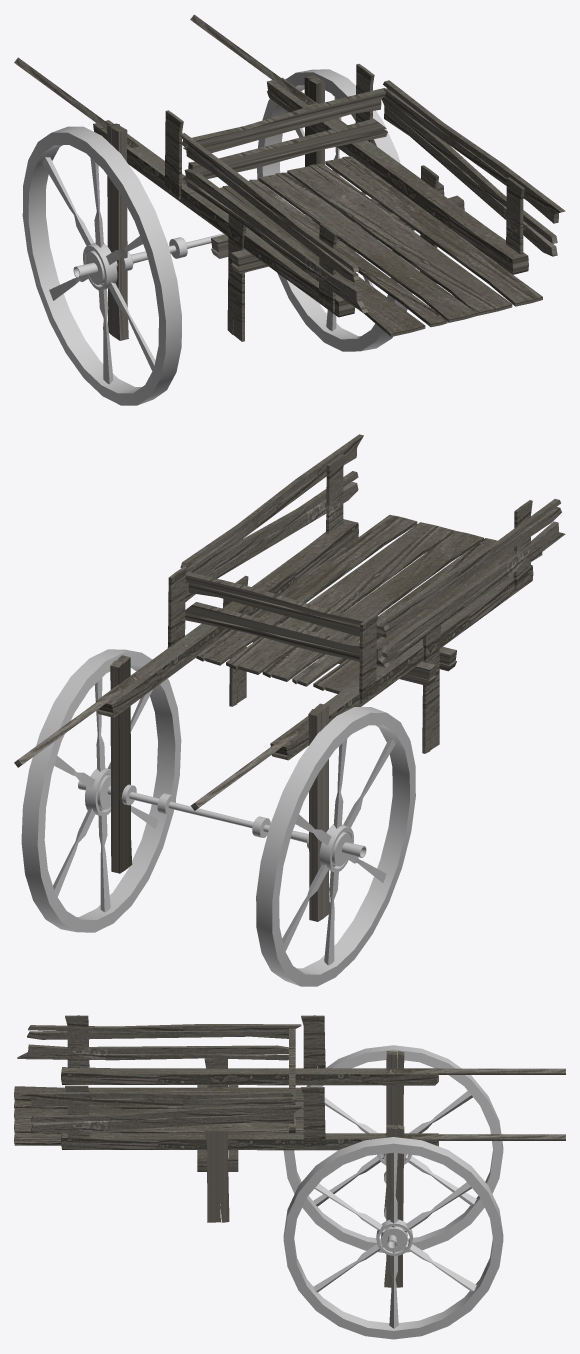
Rendered from carroça.fbx.
The picture shows the model from 3 angles, top to bottom: view 1: azimuth 30°, elevation 25°; view 2: azimuth 150°, elevation 25°; view 3: azimuth 270°, elevation 25°; orthographic projection. The views are drawn at different scales.
Parts seen in each view (by area): view 1: CARRINHO_5_Base_Madeira_Carrinho, CARRINHO_6_Sistema_Rodas_Carroca3_RODA6_pDisc8, CARRINHO_6_Sistema_Rodas_Carroca3_RODA5_pDisc8, CARRINHO_6_Sistema_Rodas_Carroca3_Barra_rolagem_carrinho1; view 2: CARRINHO_5_Base_Madeira_Carrinho, CARRINHO_6_Sistema_Rodas_Carroca3_RODA6_pDisc8, CARRINHO_6_Sistema_Rodas_Carroca3_RODA5_pDisc8, CARRINHO_6_Sistema_Rodas_Carroca3_Barra_rolagem_carrinho1; view 3: CARRINHO_5_Base_Madeira_Carrinho, CARRINHO_6_Sistema_Rodas_Carroca3_RODA5_pDisc8, CARRINHO_6_Sistema_Rodas_Carroca3_RODA6_pDisc8.
Part boxes in pixels (box(x1,y1,x2,y2)): CARRINHO_5_Base_Madeira_Carrinho: box(14, 14, 565, 341); CARRINHO_6_Sistema_Rodas_Carroca3_RODA6_pDisc8: box(22, 126, 181, 405); CARRINHO_6_Sistema_Rodas_Carroca3_RODA5_pDisc8: box(257, 69, 415, 351); CARRINHO_6_Sistema_Rodas_Carroca3_Barra_rolagem_carrinho1: box(73, 213, 304, 278); CARRINHO_5_Base_Madeira_Carrinho: box(14, 434, 565, 921); CARRINHO_6_Sistema_Rodas_Carroca3_RODA6_pDisc8: box(256, 707, 415, 986); CARRINHO_6_Sistema_Rodas_Carroca3_RODA5_pDisc8: box(21, 649, 181, 932); CARRINHO_6_Sistema_Rodas_Carroca3_Barra_rolagem_carrinho1: box(78, 780, 366, 857); CARRINHO_5_Base_Madeira_Carrinho: box(14, 1015, 565, 1287); CARRINHO_6_Sistema_Rodas_Carroca3_RODA5_pDisc8: box(283, 1137, 503, 1339); CARRINHO_6_Sistema_Rodas_Carroca3_RODA6_pDisc8: box(283, 1045, 503, 1252).
Size of the model in its own units: 20.63 by 22.13 by 45.77.
